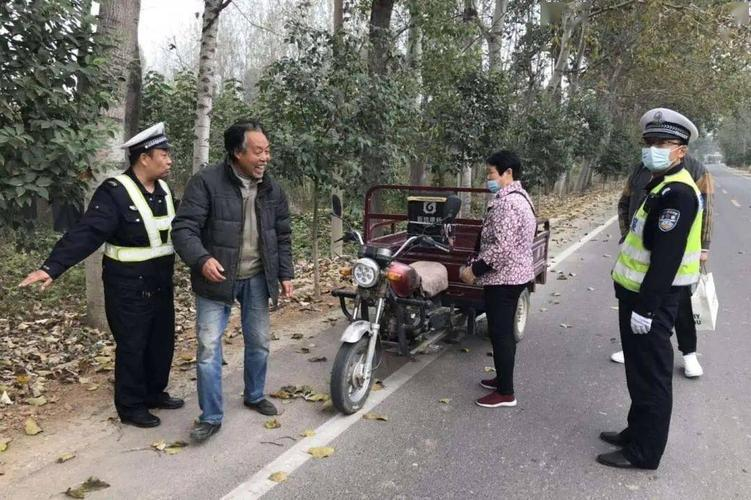driver: (455, 150, 550, 450)
overloading: (289, 145, 580, 446)
passenger: (186, 90, 292, 438)
